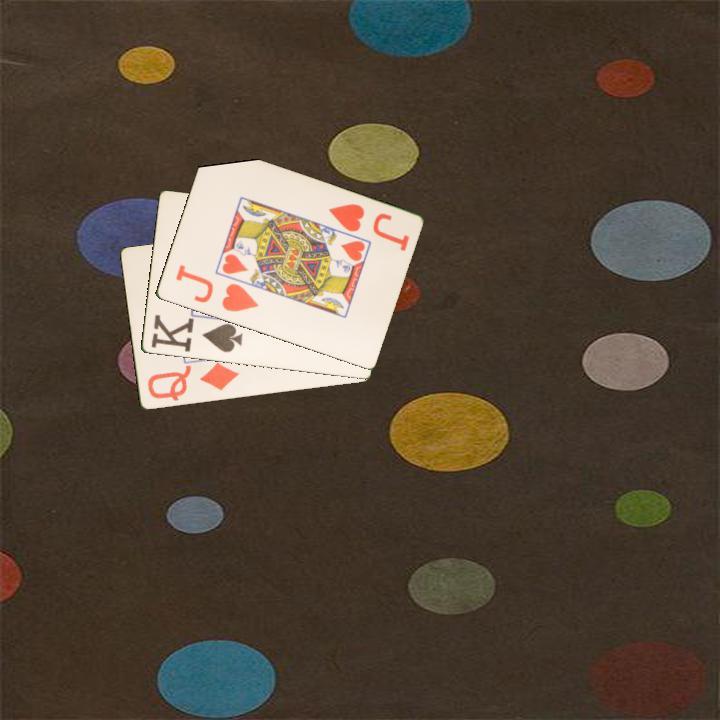Jh: (172, 262, 261, 315), (324, 200, 367, 235)
Ks: (147, 312, 245, 356)
Qd: (144, 359, 241, 404)
